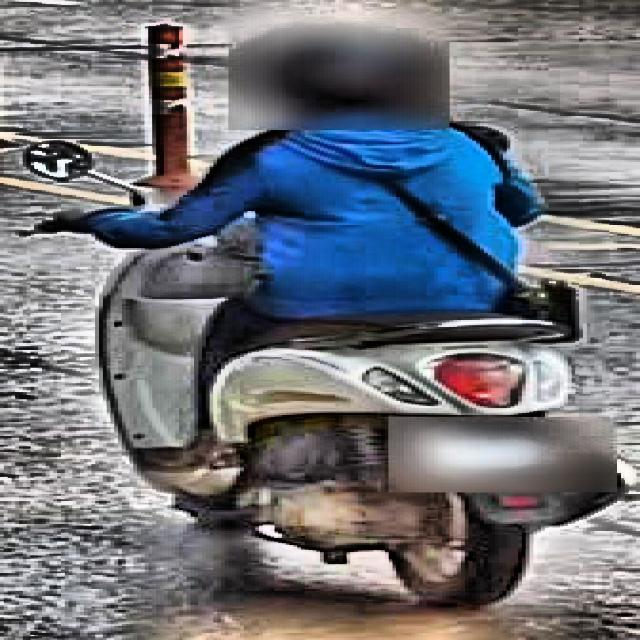motorcycle: (26, 136, 622, 611)
